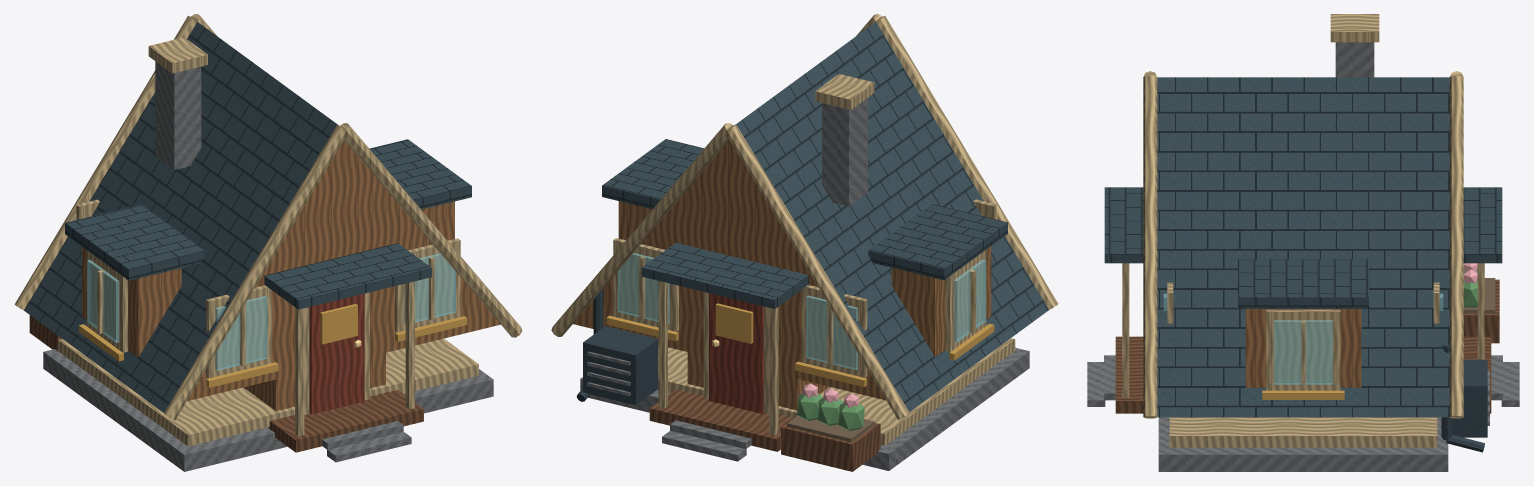
The model's file is house_aframe_lv1.glb.
3 renders of one model, left to right at view 1: azimuth 30°, elevation 25°; view 2: azimuth 150°, elevation 25°; view 3: azimuth 270°, elevation 25°, orthographic. The views are drawn at different scales.
Parts seen in each view (by area): view 1: steep_roof, a_frame_gables, floor_trim, foundation, left_dormer_cap, front_porch_canopy, front_door, a_frame_edge, chimney, front_deck, a_frame_edge.002, right_dormer_cap (+21 smaller); view 2: steep_roof, a_frame_gables, left_dormer_cap, back_porch_canopy, foundation, a_frame_edge.001, back_door, back_ac_unit, floor_trim, chimney, back_deck, a_frame_edge.003 (+26 smaller); view 3: steep_roof.001, floor_trim, foundation, right_dormer_cap, right_window_frame, a_frame_edge.002, a_frame_edge.003, right_window_glass, right_dormer, back_porch_canopy, front_porch_canopy, back_ac_unit (+13 smaller).
Boxes of the visible parts, bbox=[...] form: steep_roof: bbox=[24, 22, 338, 412]; a_frame_gables: bbox=[187, 140, 500, 400]; floor_trim: bbox=[58, 338, 478, 446]; foundation: bbox=[43, 349, 493, 471]; left_dormer_cap: bbox=[65, 204, 204, 280]; front_porch_canopy: bbox=[264, 243, 431, 309]; front_door: bbox=[309, 293, 364, 414]; a_frame_edge: bbox=[164, 125, 346, 420]; chimney: bbox=[155, 61, 201, 169]; front_deck: bbox=[268, 390, 423, 452]; a_frame_edge.002: bbox=[340, 123, 522, 337]; right_dormer_cap: bbox=[369, 139, 471, 209]; steep_roof: bbox=[735, 22, 1048, 411]; a_frame_gables: bbox=[573, 140, 885, 400]; left_dormer_cap: bbox=[868, 204, 1007, 280]; back_porch_canopy: bbox=[641, 242, 808, 308]; foundation: bbox=[580, 347, 1029, 470]; a_frame_edge.001: bbox=[727, 124, 909, 419]; back_door: bbox=[709, 293, 763, 413]; back_ac_unit: bbox=[583, 326, 658, 405]; floor_trim: bbox=[657, 338, 1015, 445]; chimney: bbox=[822, 98, 867, 206]; back_deck: bbox=[649, 389, 793, 451]; a_frame_edge.003: bbox=[551, 123, 733, 336]; steep_roof.001: bbox=[1157, 77, 1449, 417]; floor_trim: bbox=[1169, 417, 1437, 447]; foundation: bbox=[1158, 417, 1448, 471]; right_dormer_cap: bbox=[1238, 259, 1368, 308]; right_window_frame: bbox=[1266, 309, 1340, 390]; a_frame_edge.002: bbox=[1143, 75, 1157, 418]; a_frame_edge.003: bbox=[1449, 75, 1463, 418]; right_window_glass: bbox=[1274, 320, 1332, 384]; right_dormer: bbox=[1245, 309, 1361, 387]; back_porch_canopy: bbox=[1463, 187, 1502, 263]; front_porch_canopy: bbox=[1104, 187, 1143, 263]; back_ac_unit: bbox=[1441, 359, 1487, 437].
Bounding box in the file's own units: 3.29 × 2.9 × 3.36.
Materials: 13 (7 with a texture image).
